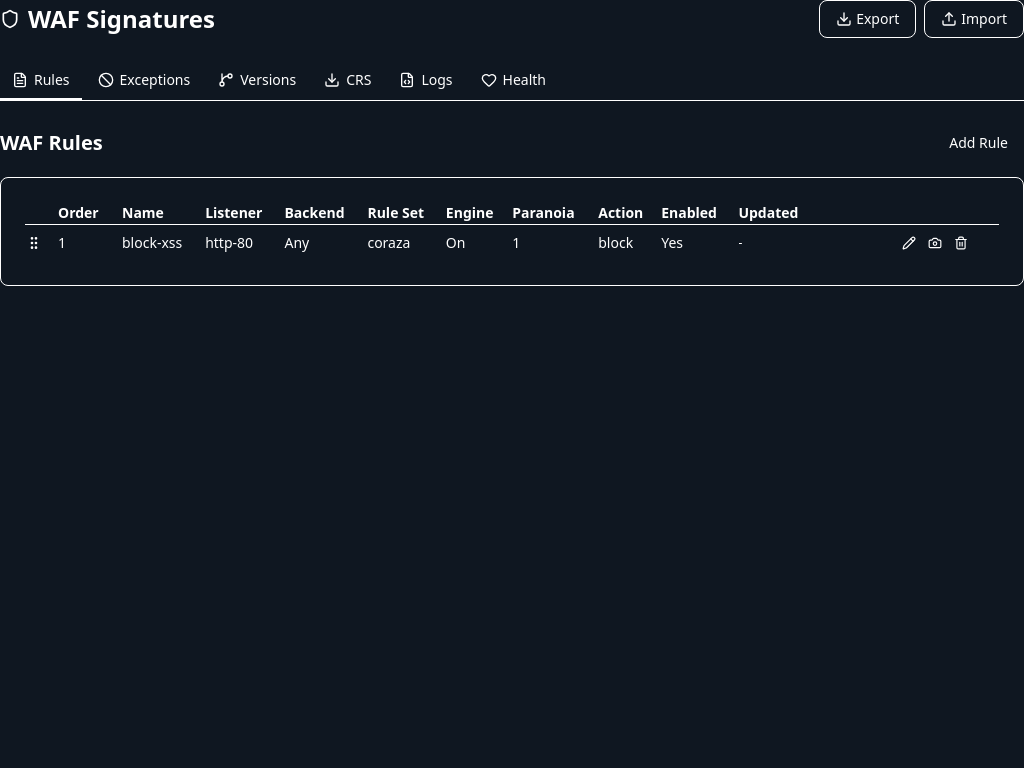
Scenario: Waf page › exception modal shows sections and hides exclusion for remove action
expect the heading "WAF Signatures" is shown: met, box top-left (0, 3), bottom-right (215, 35)
Click the button "Exceptions": click(144, 81) top-left (86, 62), bottom-right (202, 100)
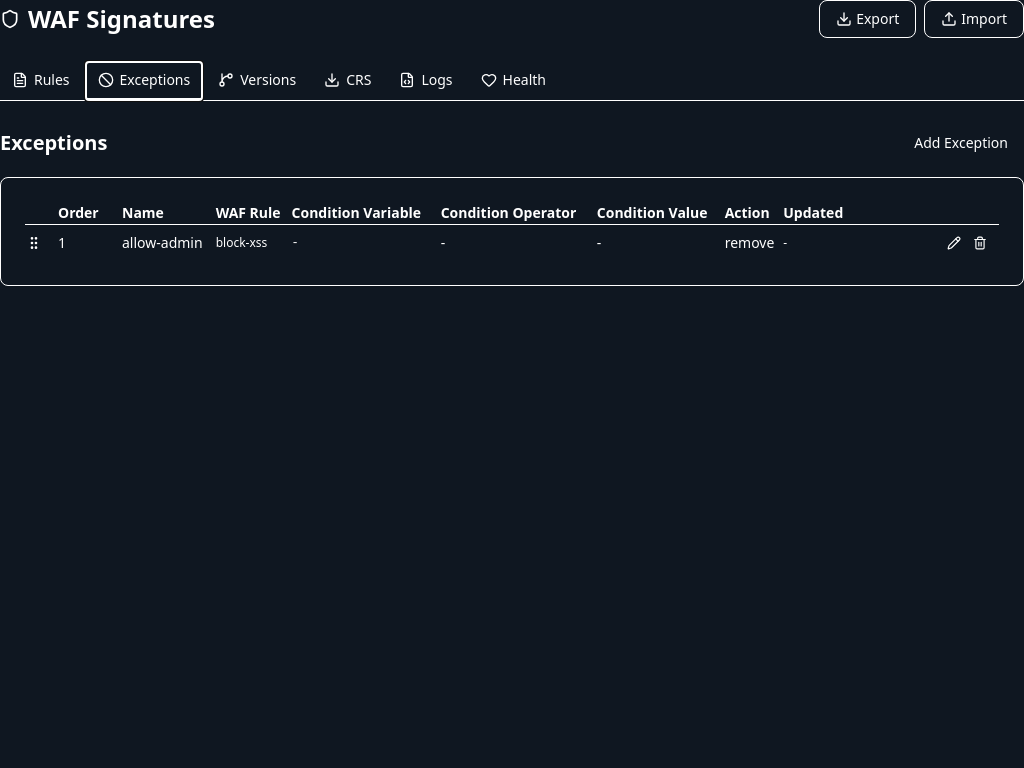
expect the text "allow-admin" is shown: met, box top-left (121, 224), bottom-right (215, 261)
Click the button "Add Exception": click(961, 143) top-left (898, 125), bottom-right (1023, 161)
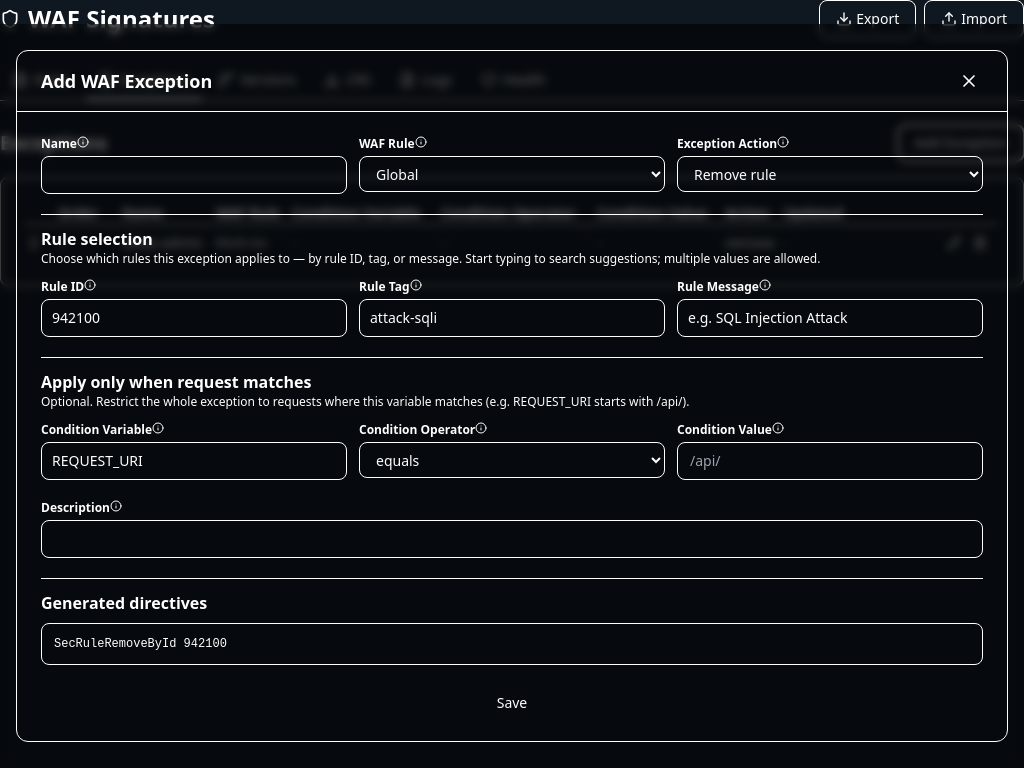
expect the heading "Add WAF Exception" is shown: met, box top-left (41, 67), bottom-right (212, 95)
expect the heading "Rule selection" is shown: met, box top-left (41, 228), bottom-right (153, 250)
expect the heading "Apply only when request matches" is shown: met, box top-left (41, 371), bottom-right (311, 393)
